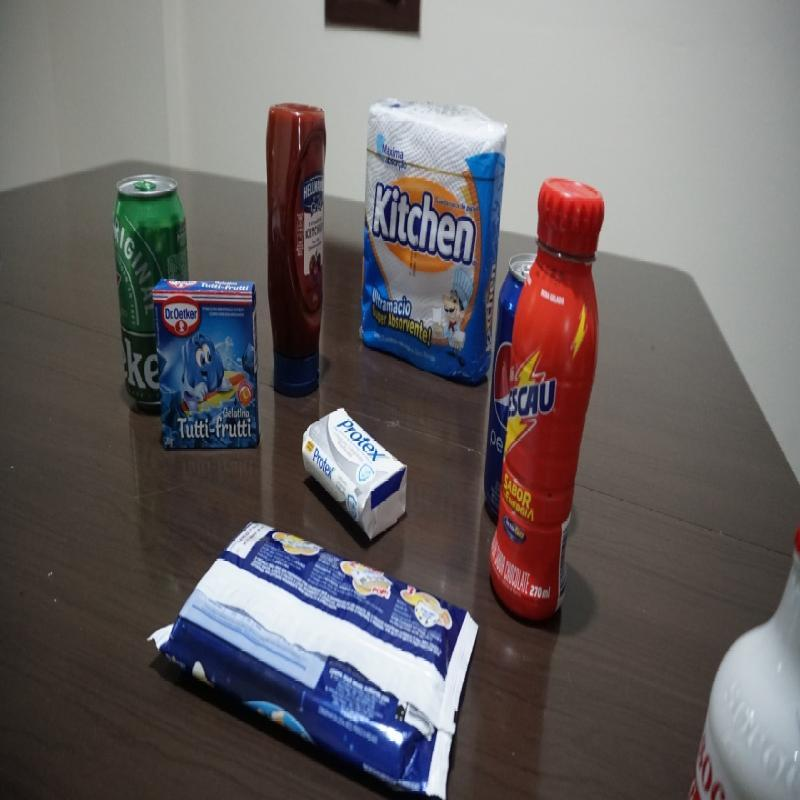Beer can: (113, 177, 156, 415)
Chocolate Milk: (506, 178, 602, 636)
Gelatine: (157, 278, 261, 451)
Ketchup: (264, 104, 326, 393)
Napkin: (359, 99, 489, 387)
Popcorn: (148, 524, 478, 768)
Soap: (304, 405, 417, 536)
